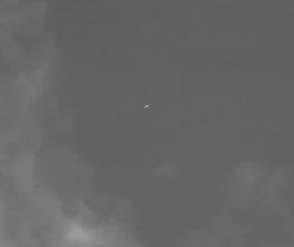Target: (145, 106, 148, 108)
